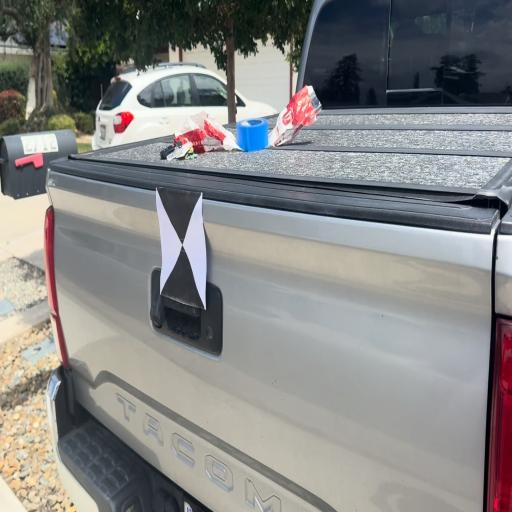target: (157, 188, 208, 310)
